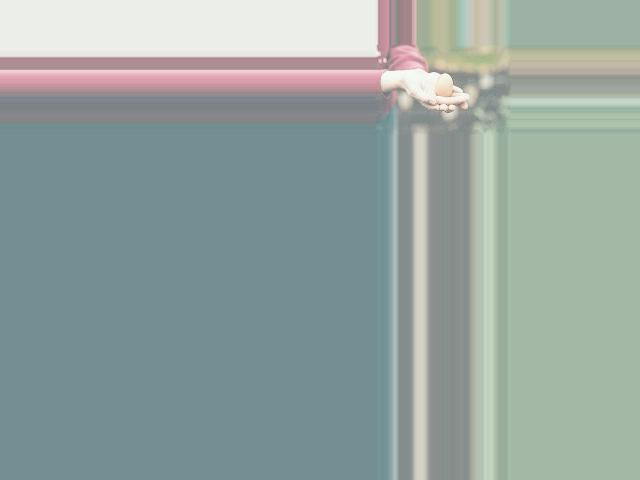egg: (435, 73, 452, 96)
